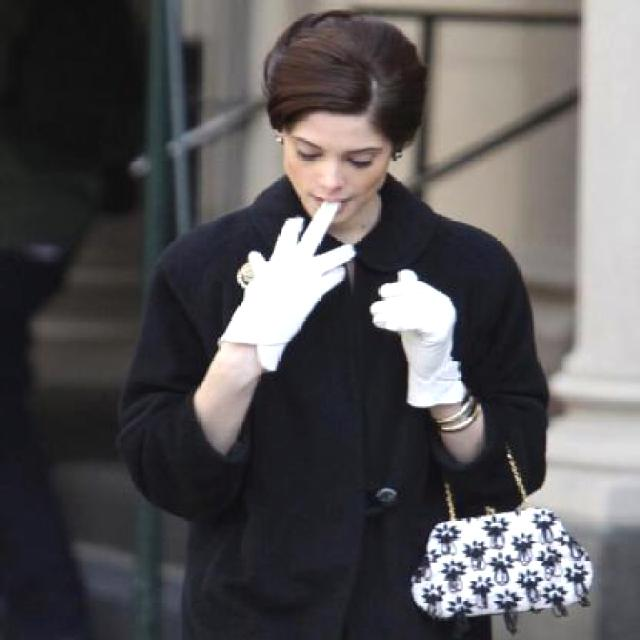face_nomask: (278, 121, 391, 234)
hand_glove: (238, 220, 357, 351), (371, 268, 457, 377)
head_nohelmet: (252, 11, 430, 151)
person: (109, 0, 571, 640)
